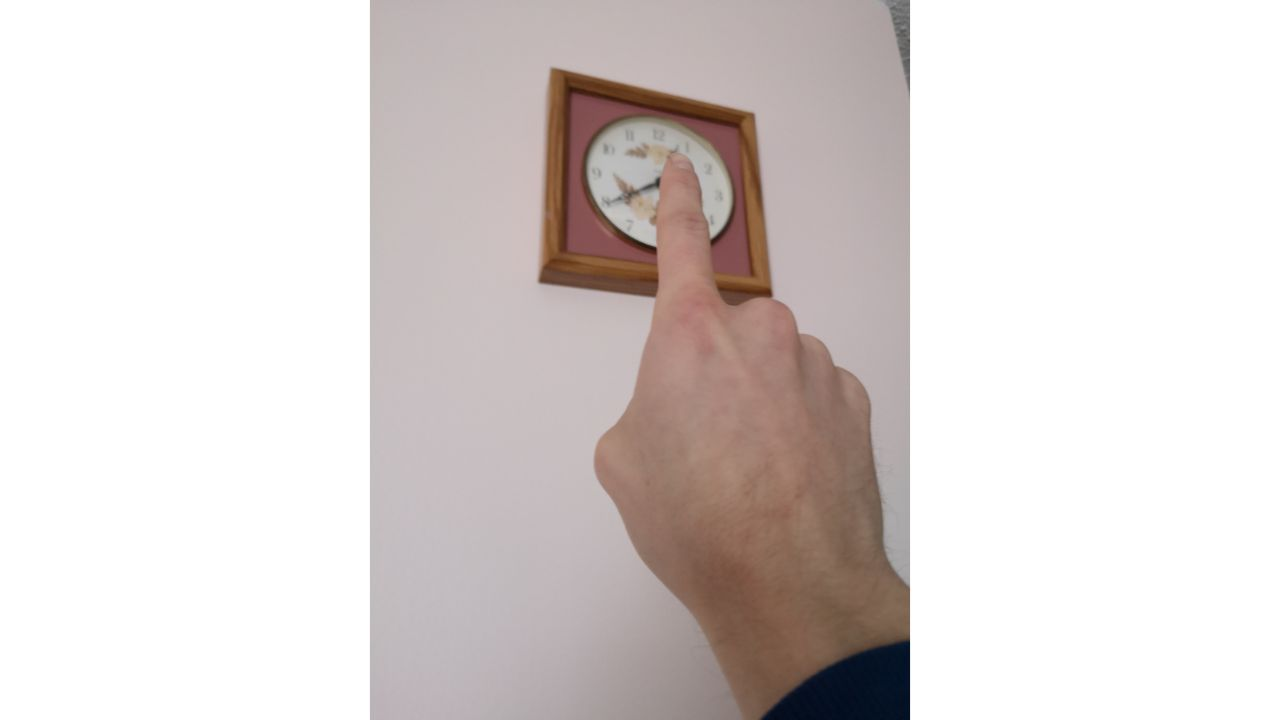finger: (596, 144, 887, 597)
